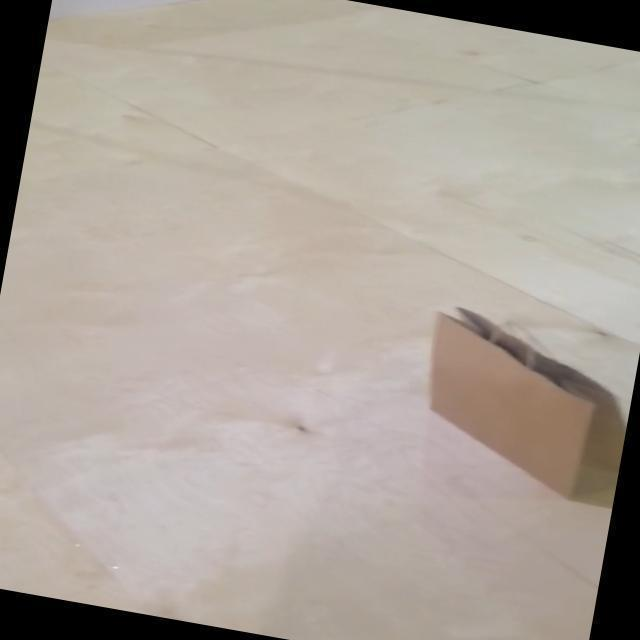Paper_Bag: (405, 301, 640, 507)
